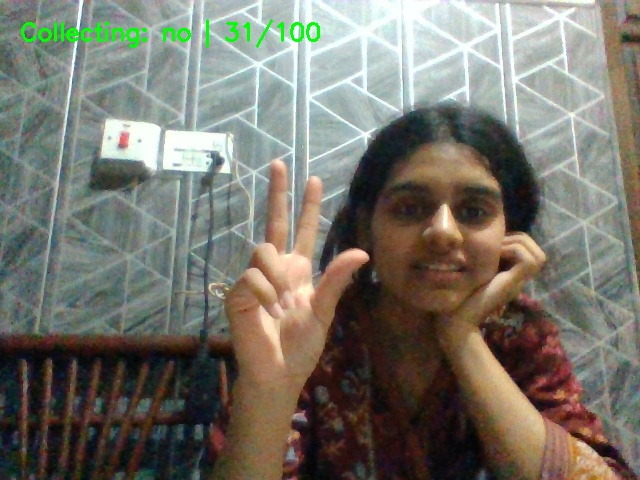no: (223, 150, 367, 451)
